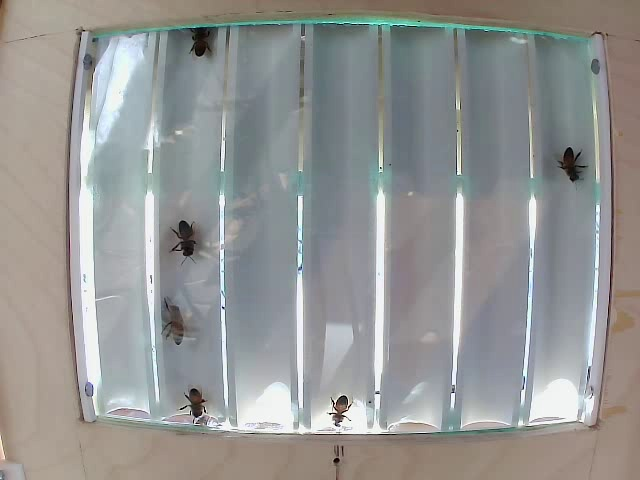bee: (170, 217, 203, 287), (556, 143, 590, 193), (153, 298, 190, 343), (173, 383, 212, 410)
